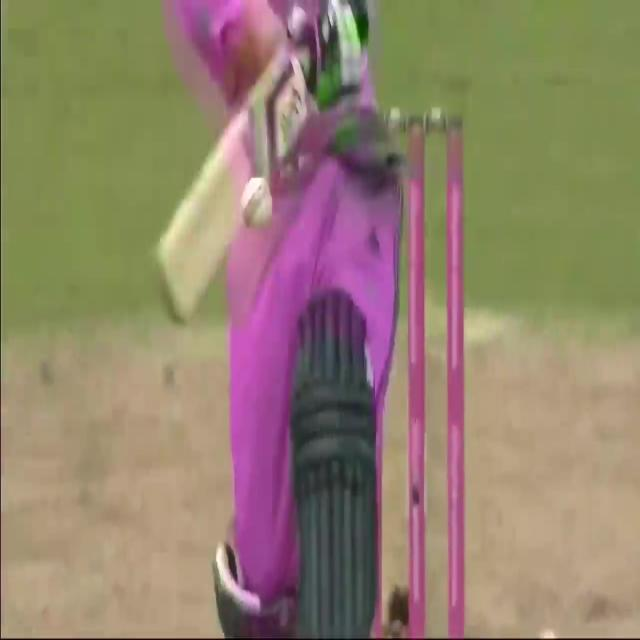Ball: (168, 0, 469, 640)
